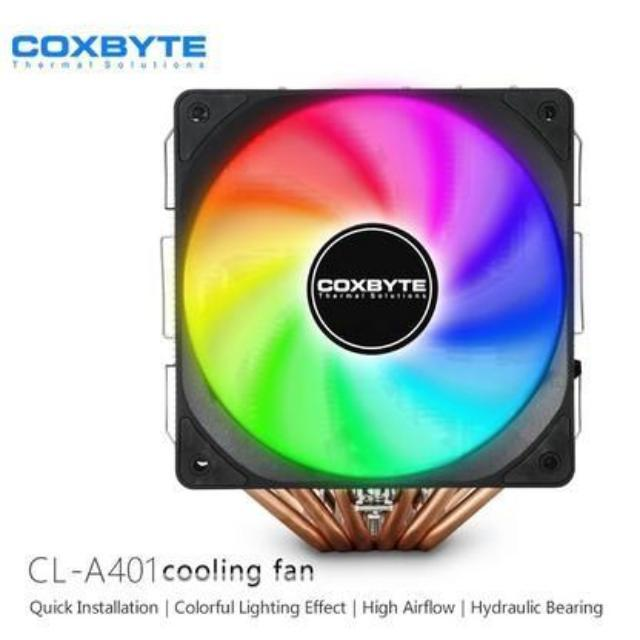CPU_Fan: (167, 86, 581, 562)
